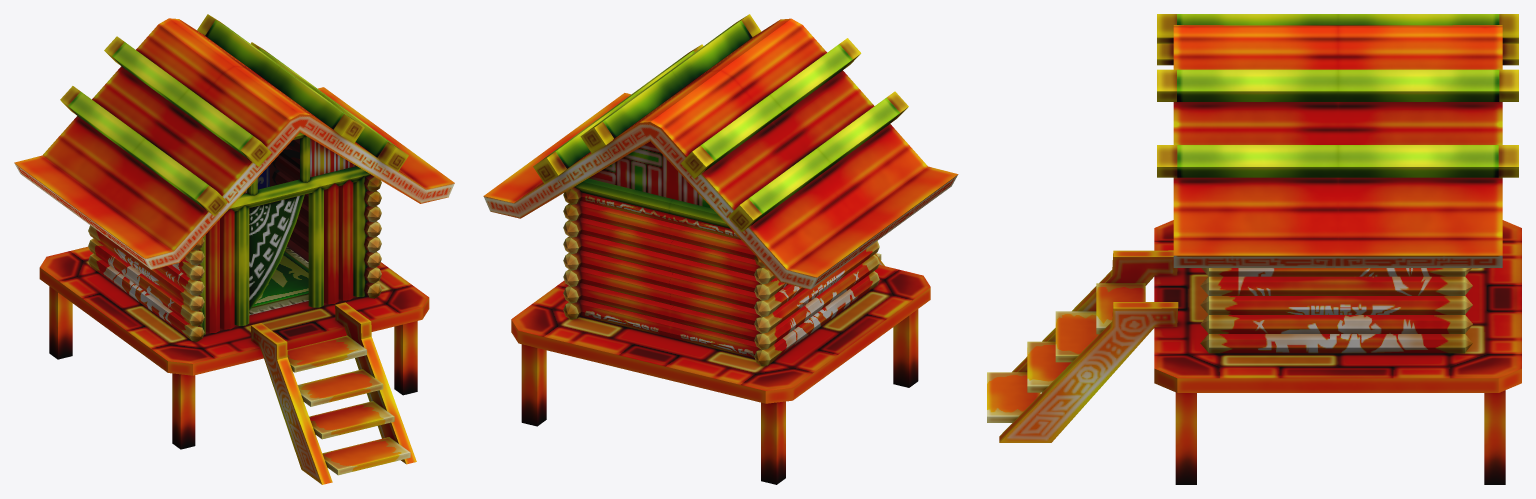
Rendered from 1st_ie_small.FBX.
The picture shows the model from 3 angles, left to right: view 1: azimuth 30°, elevation 25°; view 2: azimuth 150°, elevation 25°; view 3: azimuth 270°, elevation 25°; orthographic projection. The views are drawn at different scales.
Visible parts, largest first — view 1: obj2; view 2: obj2; view 3: obj2.
Boxes of the visible parts, box(x1,y1,x2,y2) form: obj2: box(14, 14, 454, 484); obj2: box(483, 14, 958, 484); obj2: box(987, 14, 1521, 484).
Bounding box in the file's own units: 169 × 160 × 201.
